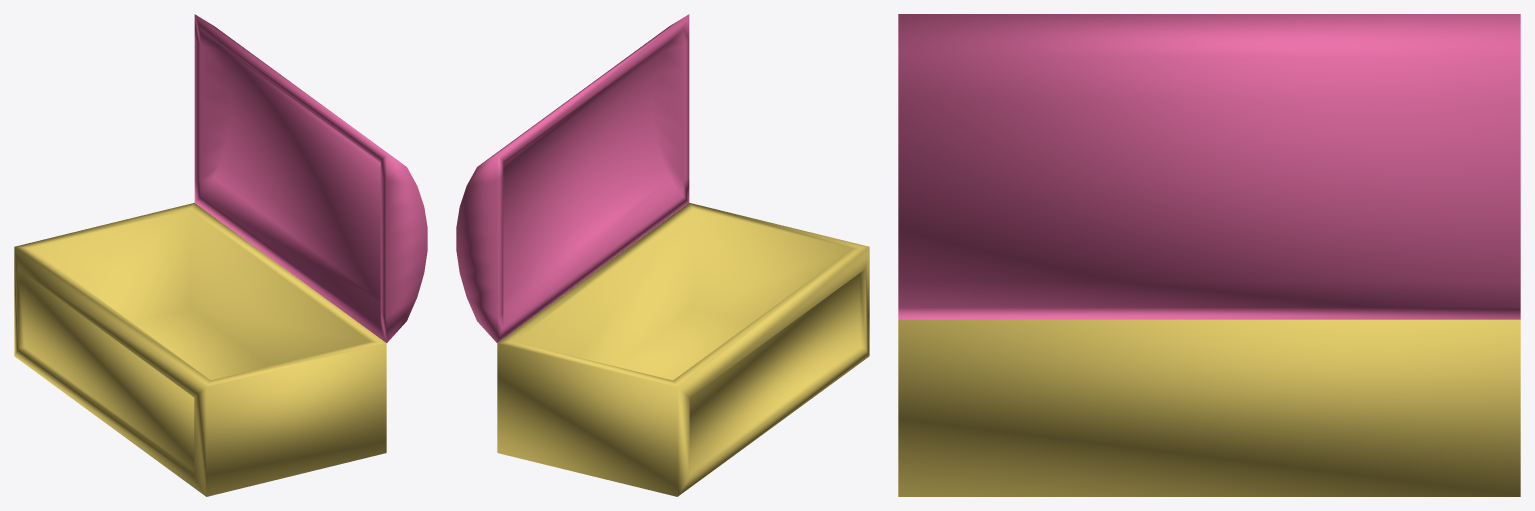
The model's file is wooden-box-lp.fbx.
3 renders of one model, left to right at view 1: azimuth 30°, elevation 25°; view 2: azimuth 150°, elevation 25°; view 3: azimuth 270°, elevation 25°, orthographic. The views are drawn at different scales.
Visible parts, largest first — view 1: base, lid; view 2: base, lid; view 3: lid, base.
Part boxes in pixels (x1,y1,x2,y2): base: (14, 203, 386, 496); lid: (194, 14, 427, 342); base: (497, 203, 869, 496); lid: (456, 14, 689, 342); lid: (898, 14, 1520, 319); base: (898, 319, 1520, 496).
Bounding box in the file's own units: 64.94 × 82.21 × 96.
